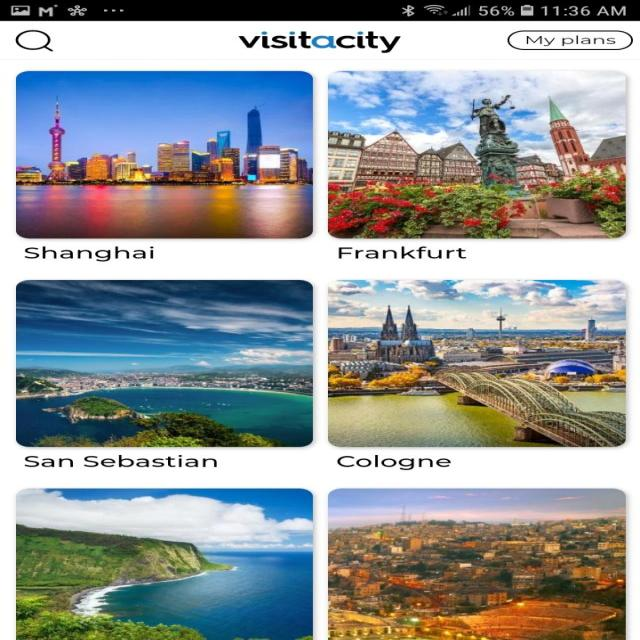Icon: (15, 30, 54, 52)
Image: (15, 70, 313, 238), (328, 70, 626, 238), (15, 280, 313, 447), (327, 280, 625, 447), (327, 488, 625, 640), (16, 488, 313, 640), (237, 31, 401, 53)
Text: (24, 454, 217, 467), (24, 246, 154, 261), (336, 455, 451, 470), (338, 246, 467, 258)
TextButton: (507, 30, 633, 50)
